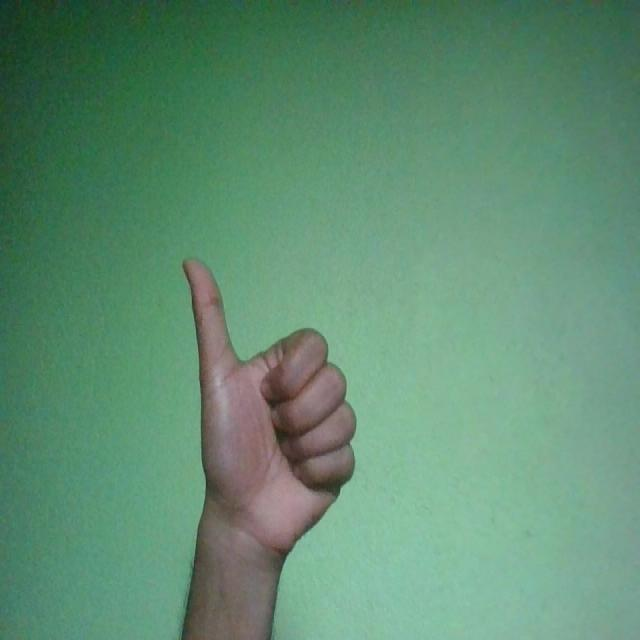Good Job: (181, 258, 358, 561)
